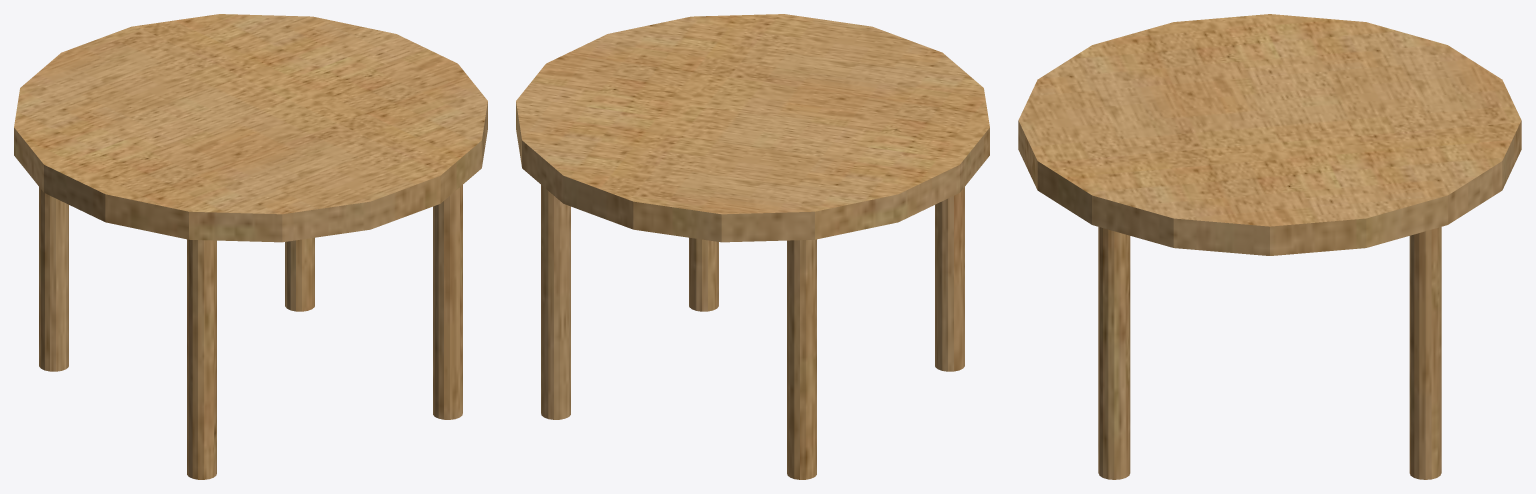
Rendered from round_table.glb.
The picture shows the model from 3 angles, left to right: view 1: azimuth 30°, elevation 25°; view 2: azimuth 150°, elevation 25°; view 3: azimuth 270°, elevation 25°; orthographic projection. The views are drawn at different scales.
Parts seen in each view (by area): view 1: kitchen_table; view 2: kitchen_table; view 3: kitchen_table.
Part boxes in pixels (x1,y1,x2,y2): kitchen_table: [14, 14, 487, 479]; kitchen_table: [516, 14, 989, 479]; kitchen_table: [1018, 14, 1521, 479].
Size of the model in its own units: 2 by 1.27 by 2.
1 material, 1 textured.
